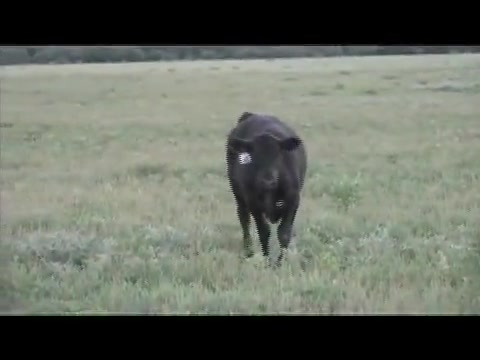cow: (223, 112, 305, 265)
